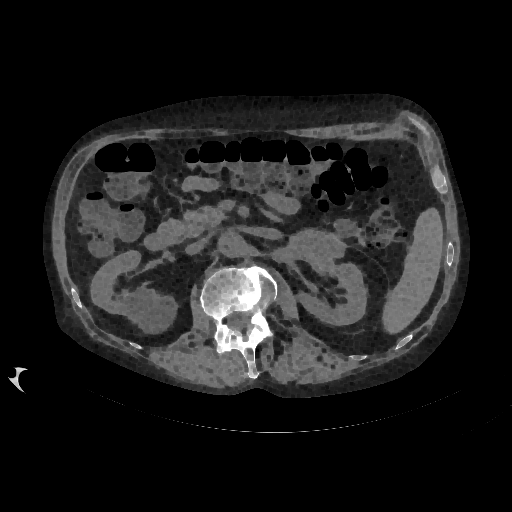Lesion: (282, 224, 347, 263)
